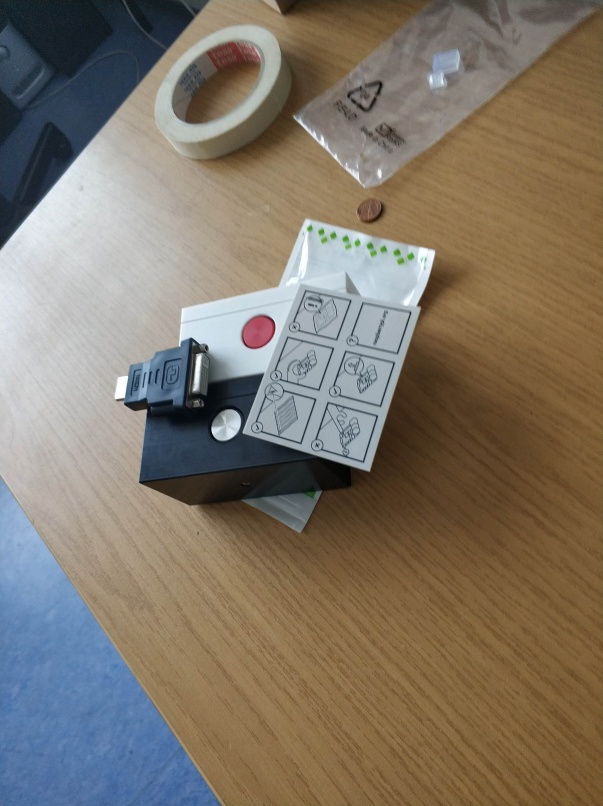black+black+silver: (137, 371, 361, 508)
white+white+red: (177, 268, 366, 382)
